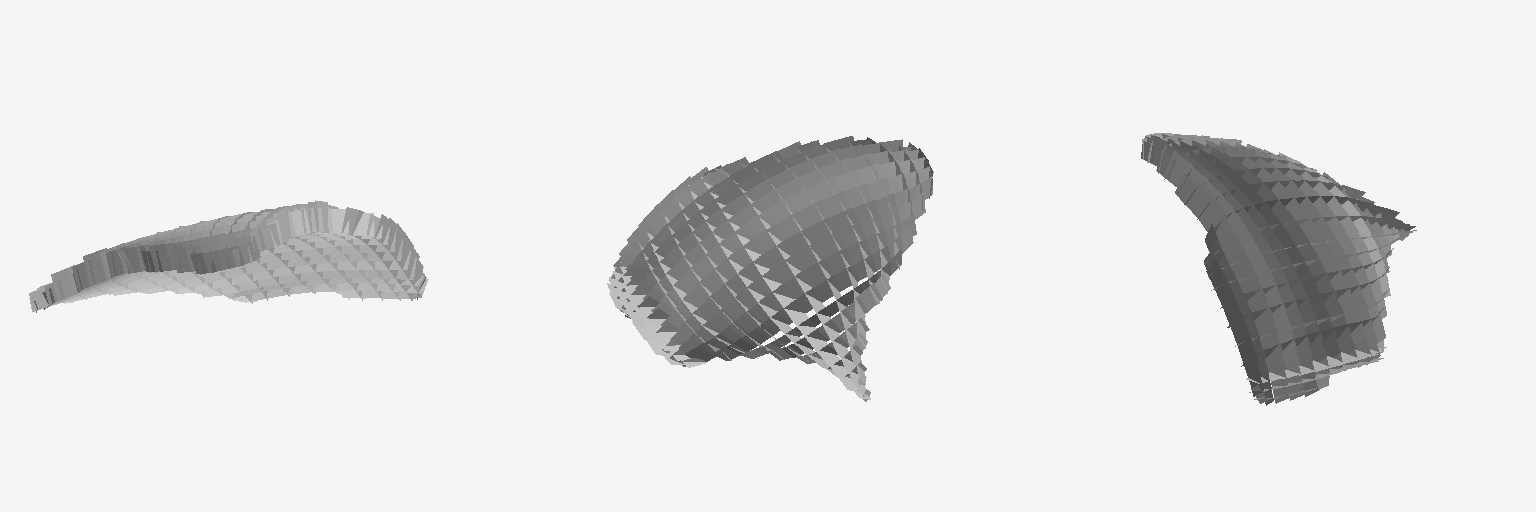
The model's file is Sph_inv_2_2_supp_opt.obj.
3 views of the same model, side by side, from view 1: azimuth 30°, elevation 25°; view 2: azimuth 150°, elevation 25°; view 3: azimuth 270°, elevation 25° (orthographic).
Size of the model in its own units: 0.8449 by 0.4429 by 0.6229.